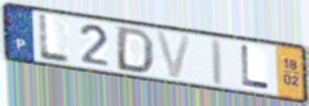2: (78, 23, 111, 69)
D: (114, 25, 156, 76)
I: (210, 37, 225, 88)
L: (37, 13, 72, 65), (239, 44, 272, 92)
V: (154, 29, 194, 81)
